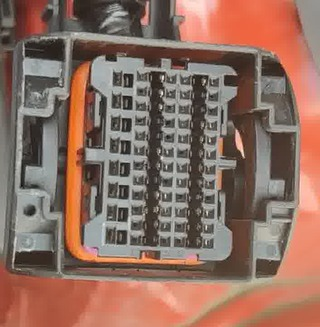connector: (4, 31, 300, 280)
